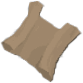scroll: (1, 1, 82, 82)
